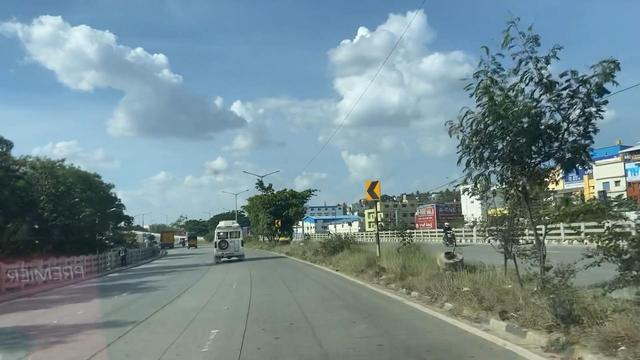HMV: (207, 217, 247, 262)
